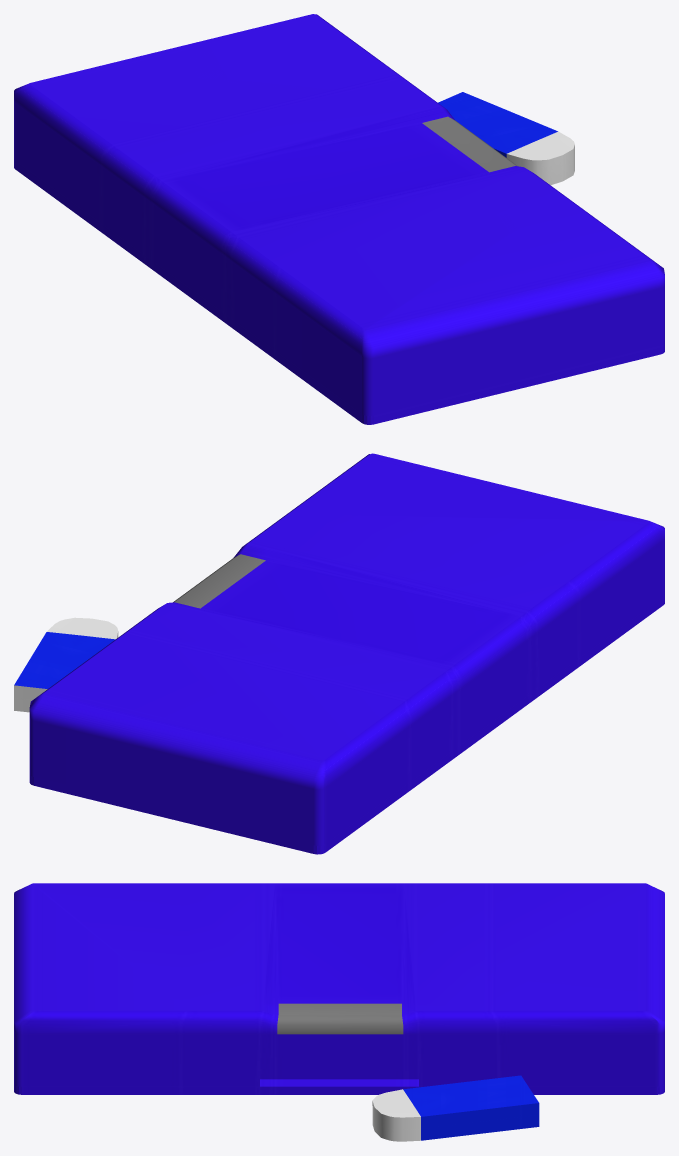
Rendered from hudebako-eraser.fbx.
The picture shows the model from 3 angles, top to bottom: view 1: azimuth 30°, elevation 25°; view 2: azimuth 150°, elevation 25°; view 3: azimuth 270°, elevation 25°; orthographic projection. The views are drawn at different scales.
Parts seen in each view (by area): view 1: hudebako_eraser; view 2: hudebako_eraser; view 3: hudebako_eraser.
Part boxes in pixels (x1,y1,x2,y2): hudebako_eraser: [14, 14, 664, 424]; hudebako_eraser: [14, 453, 664, 854]; hudebako_eraser: [14, 883, 664, 1141].
Size of the model in its own units: 4.74 by 0.9557 by 7.01.
Materials: 2 (2 with a texture image).
